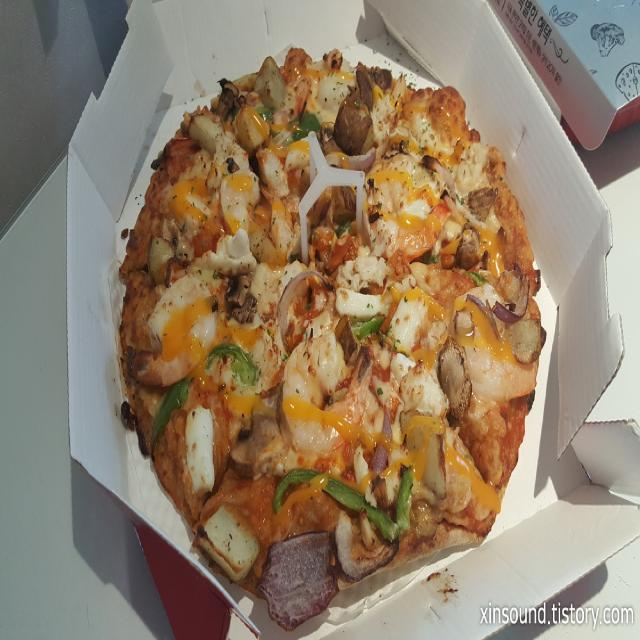Wet Waste: (112, 35, 550, 632)
